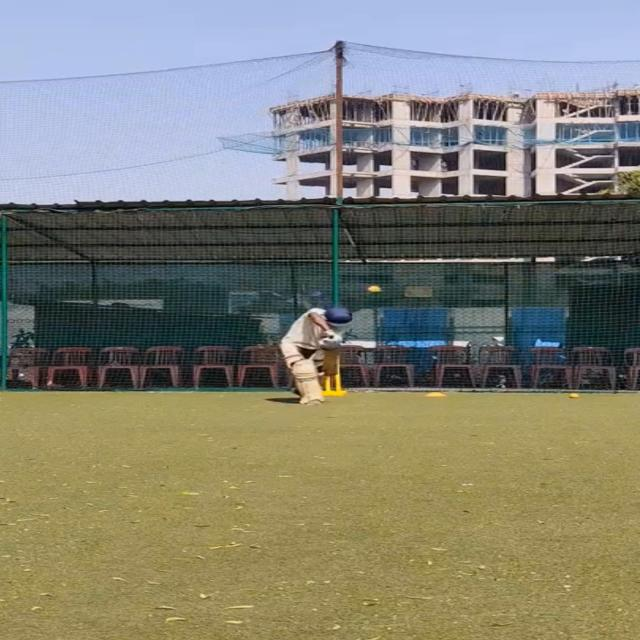ball: (365, 283, 385, 295)
